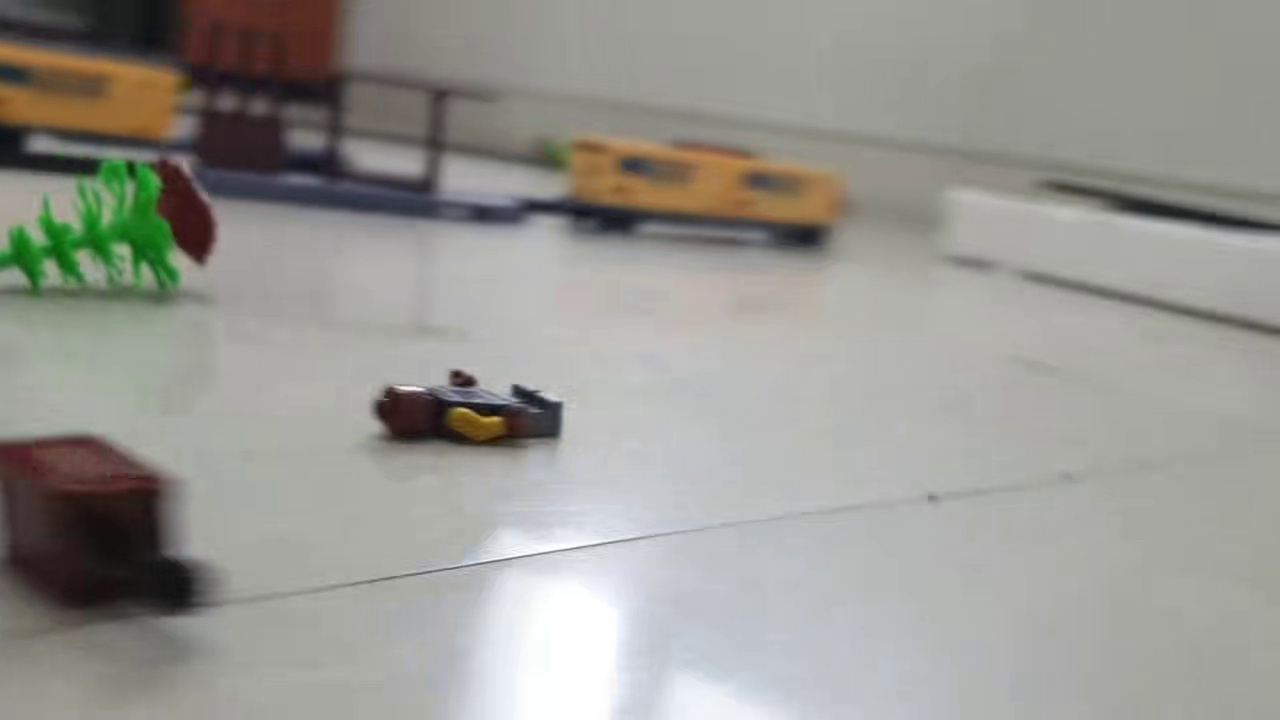box: (1, 431, 208, 622)
people: (372, 361, 565, 449)
tree: (1, 154, 221, 305)
